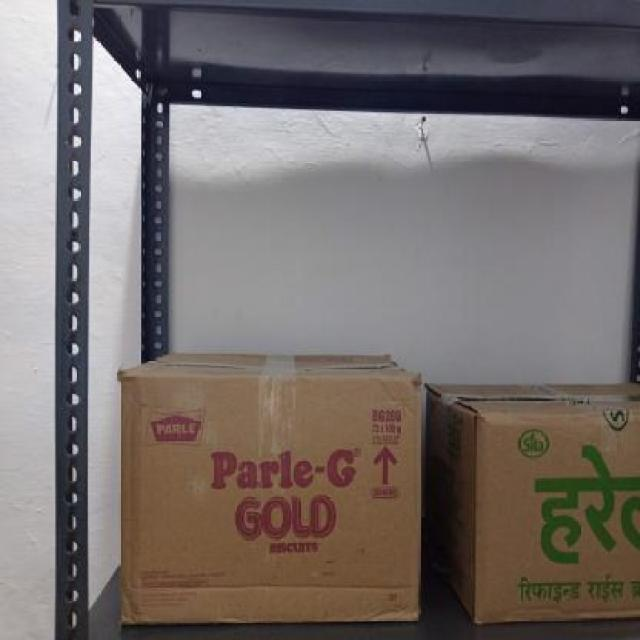box: (117, 371, 423, 625), (474, 410, 640, 624)
